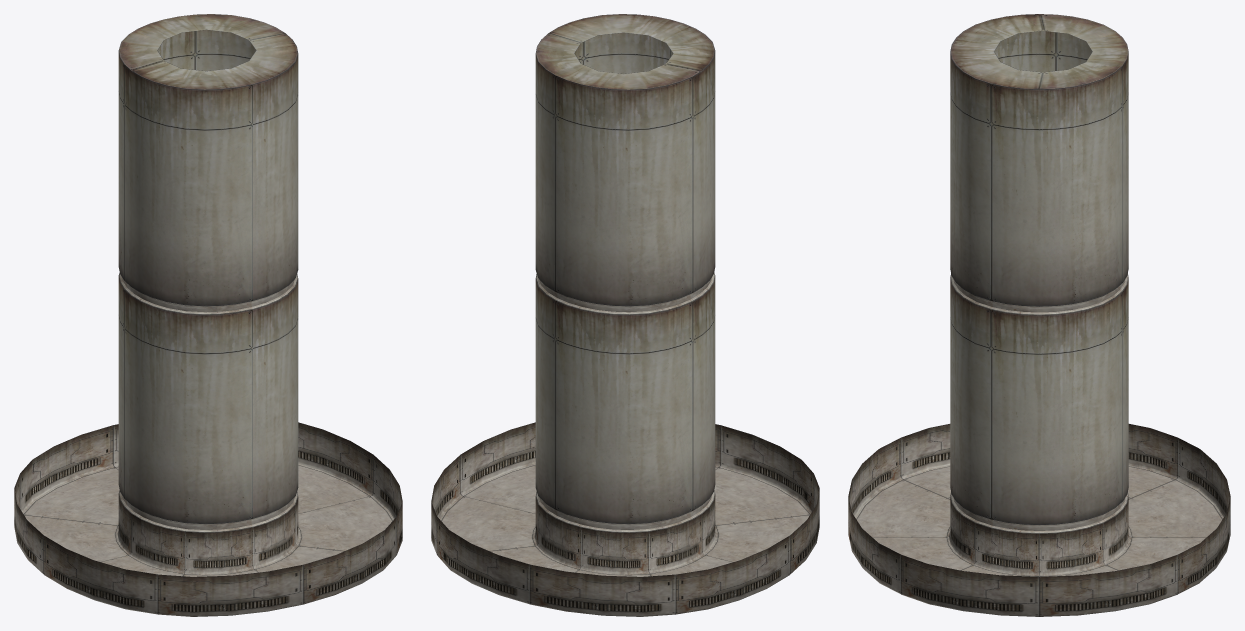
Rendered from 02_06_ladder_shaft_special.dae.
3 views of the same model, side by side, from view 1: azimuth 30°, elevation 25°; view 2: azimuth 150°, elevation 25°; view 3: azimuth 270°, elevation 25° (orthographic).
Visible parts, largest first — view 1: 02_06_ladder_shaft_special; view 2: 02_06_ladder_shaft_special; view 3: 02_06_ladder_shaft_special.
Part boxes in pixels (x1=…): 02_06_ladder_shaft_special: x1=14, y1=14, x2=402, y2=616; 02_06_ladder_shaft_special: x1=431, y1=14, x2=819, y2=616; 02_06_ladder_shaft_special: x1=848, y1=14, x2=1230, y2=616.
Size of the model in its own units: 6.14 by 8.6 by 6.14.
